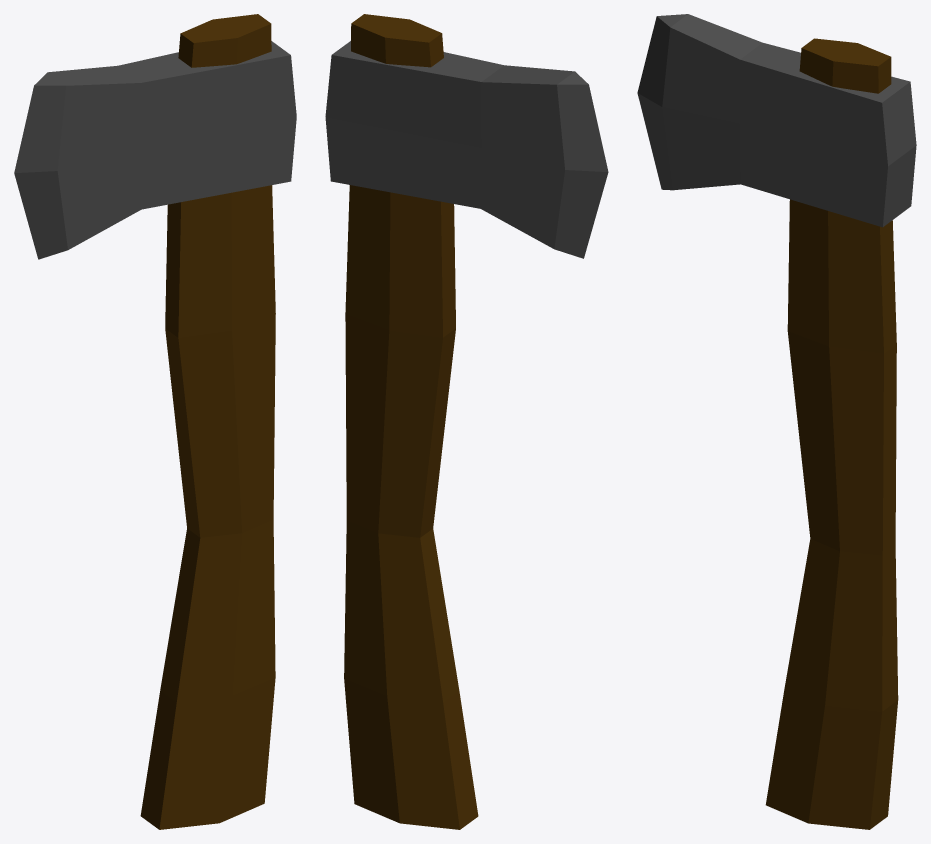
File: GEO_pickaxe.fbx
The picture shows the model from 3 angles, left to right: view 1: azimuth 30°, elevation 25°; view 2: azimuth 150°, elevation 25°; view 3: azimuth 330°, elevation 25°; orthographic projection.
Visible parts, largest first — view 1: GEO_Tools_PickAxe; view 2: GEO_Tools_PickAxe; view 3: GEO_Tools_PickAxe.
Boxes of the visible parts, left/top/right/bottom form: GEO_Tools_PickAxe: left=14, top=14, right=296, bottom=829; GEO_Tools_PickAxe: left=325, top=14, right=608, bottom=829; GEO_Tools_PickAxe: left=637, top=14, right=916, bottom=829.
Size of the model in its own units: 18.15 by 50.22 by 4.17.
